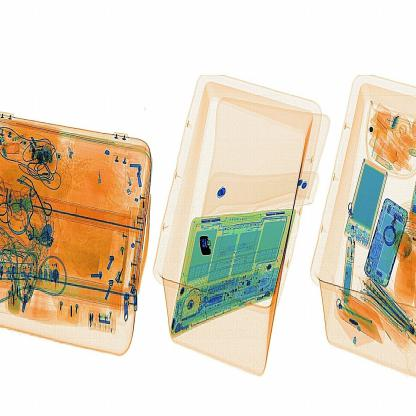pliers: (198, 231, 204, 261)
